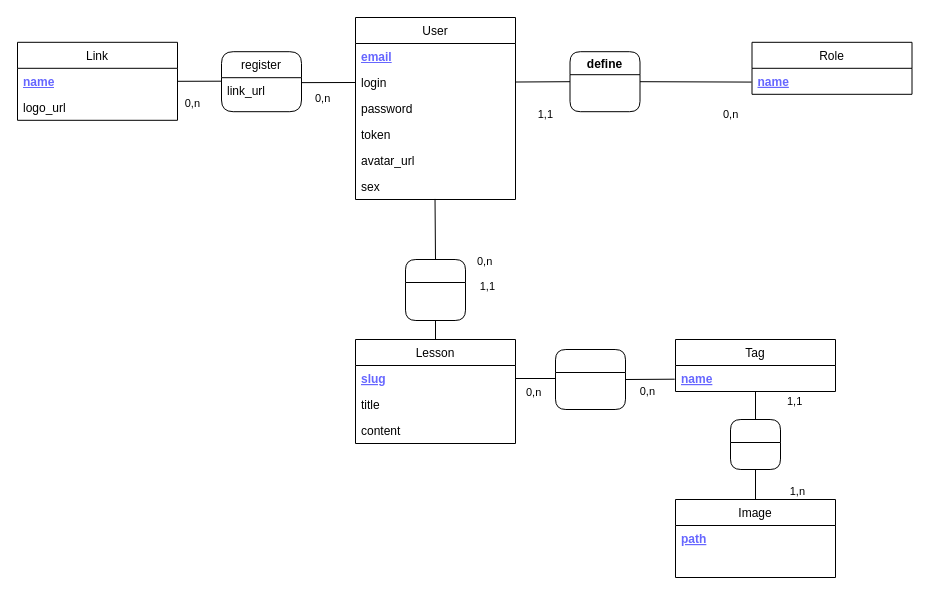
Some shapes in this 930 by 598 pixel diagram are drawn without their labels. Here are the shapes that lost their labels. From the top down, the centre of each, then its label:
At (x=435, y=289): "write".
At (x=590, y=379): "belong".
At (x=755, y=444): "get".
